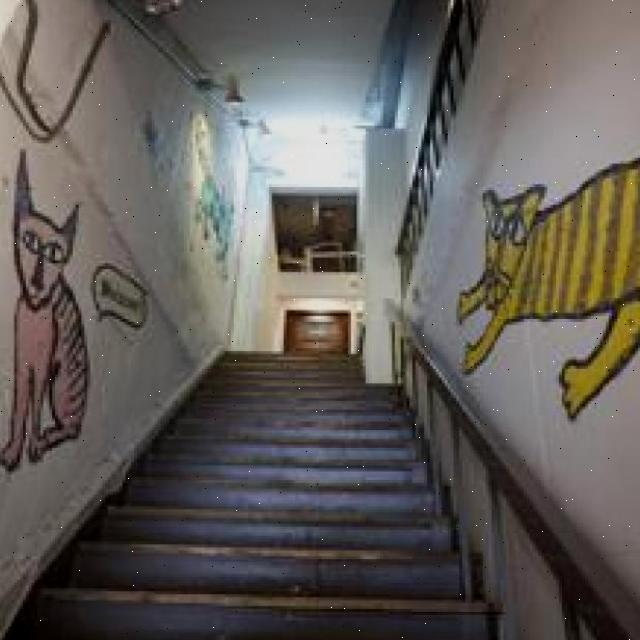stair: (52, 445, 512, 640)
